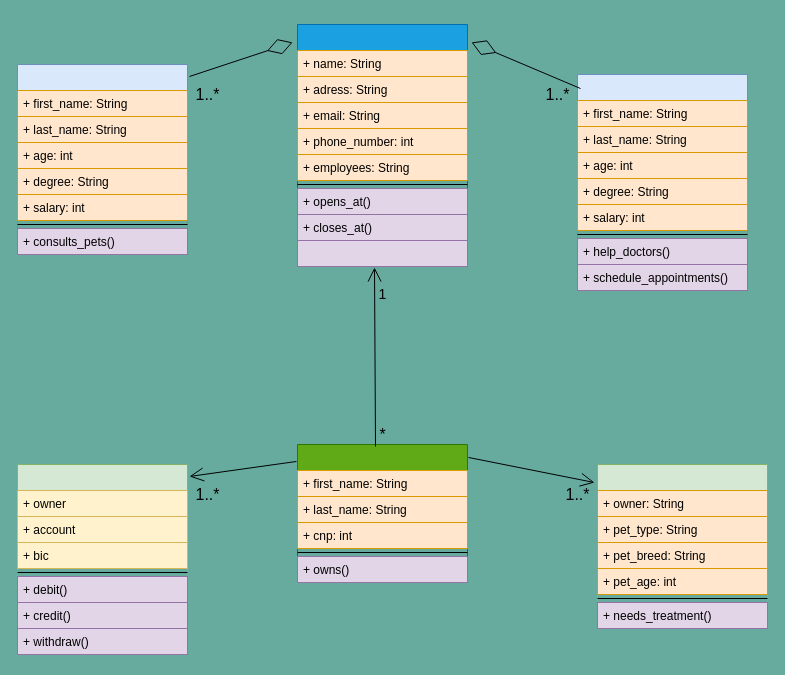
Some shapes in this 785 by 675 pixel diagram are drawn without their labels. The shapes that lost their labels are listed below. From the top down, each one's box as (x1, y1, x2, y2) in pixels, then its label:
(16, 64, 188, 254): Doctors
(296, 24, 468, 266): VetClinic
(576, 74, 748, 290): Assistants
(296, 240, 468, 266): + appointments()
(296, 444, 468, 582): Clients
(16, 464, 188, 654): CreditCardsOfClients
(596, 464, 768, 628): Pets
